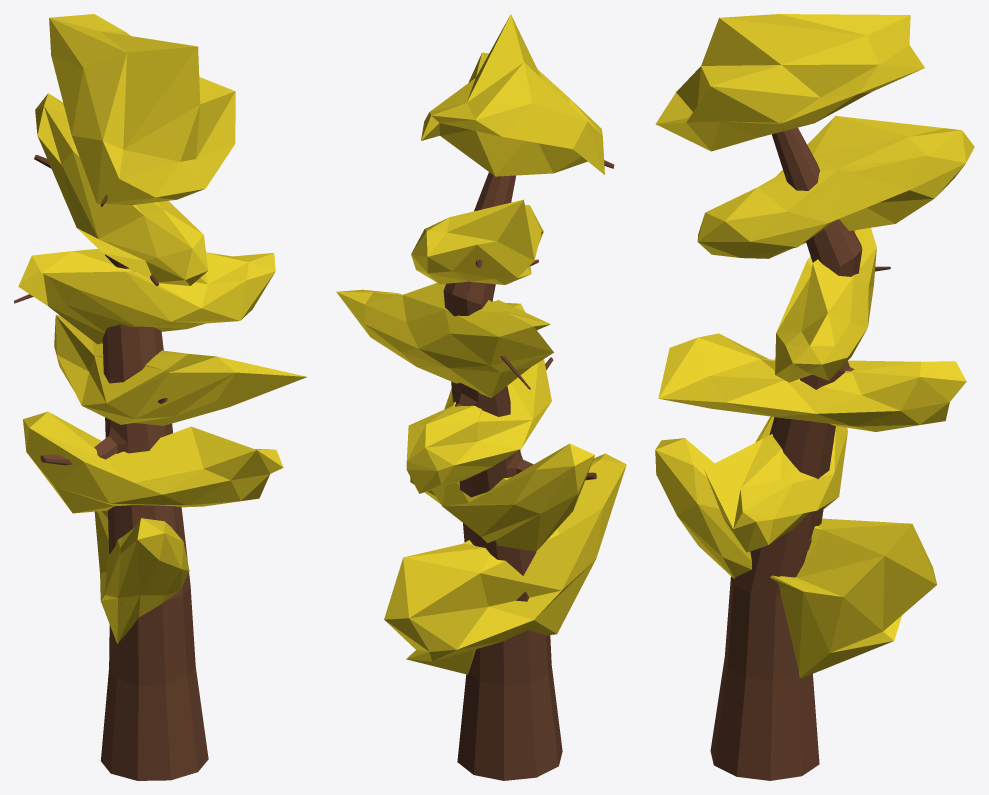
The picture shows the model from 3 angles, left to right: view 1: azimuth 30°, elevation 25°; view 2: azimuth 150°, elevation 25°; view 3: azimuth 270°, elevation 25°; orthographic projection. The views are drawn at different scales.
Visible parts, largest first — view 1: t5-yellow; view 2: t5-yellow; view 3: t5-yellow.
Part boxes in pixels (<box>): t5-yellow: <box>14,14,306,780</box>; t5-yellow: <box>336,14,626,780</box>; t5-yellow: <box>655,14,974,780</box>.
Bounding box in the file's own units: 358 × 984 × 379.
